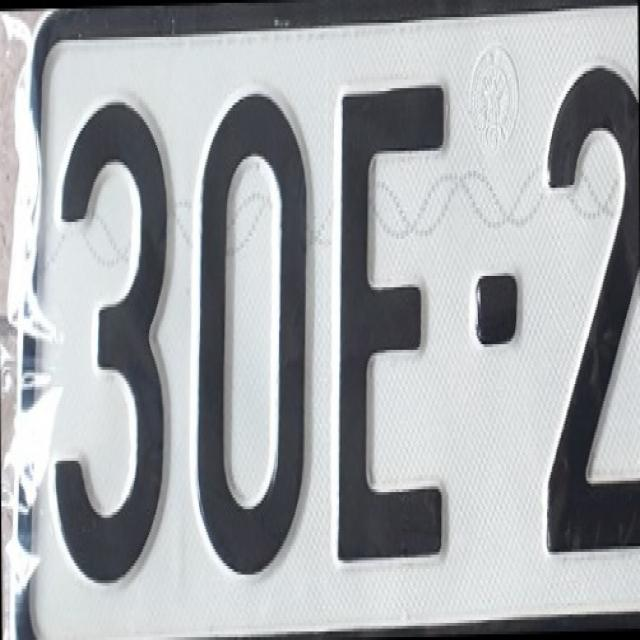0: (187, 66, 319, 583)
3: (51, 79, 175, 592)
E: (328, 45, 457, 586)
Z: (530, 37, 640, 572)
